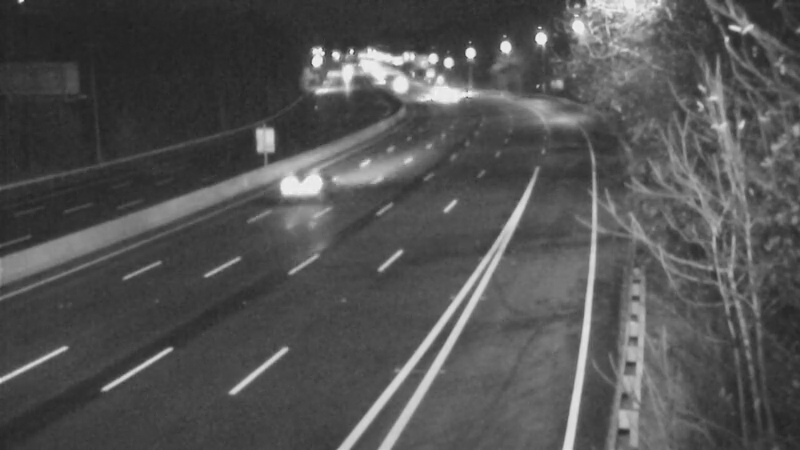vehicle: (256, 145, 336, 225), (372, 55, 422, 105), (413, 71, 463, 121), (438, 67, 488, 117), (402, 73, 452, 123)
